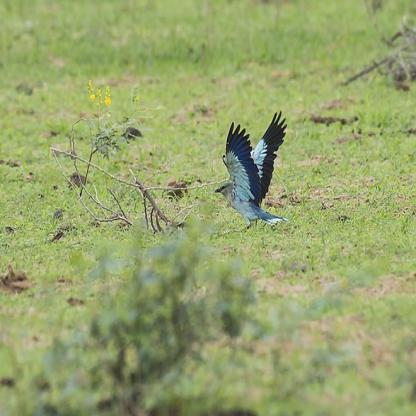Burung: (212, 112, 289, 237)
